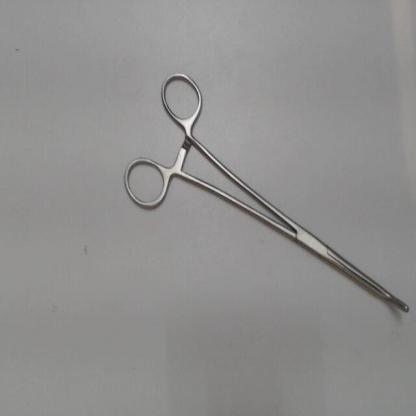Lahey Forceps: (121, 65, 413, 323)
